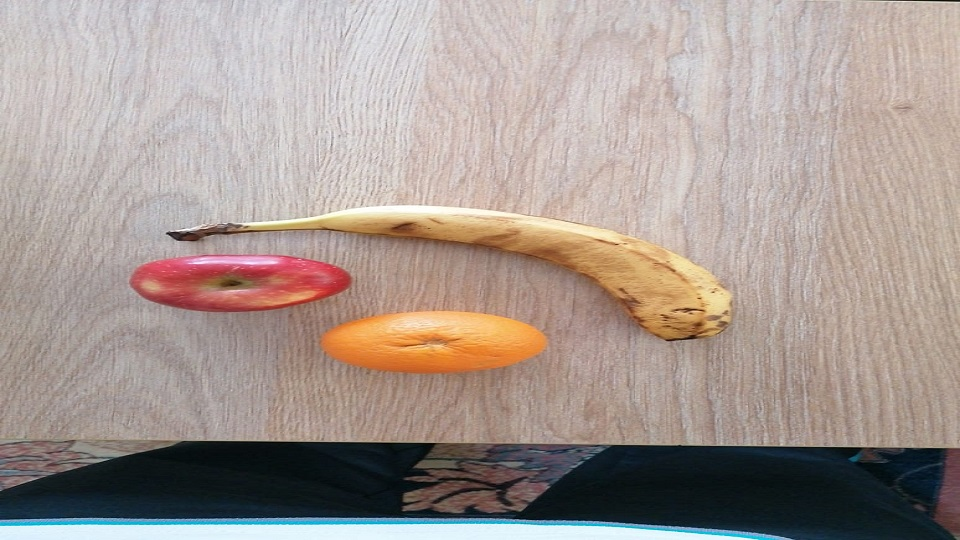elma: (128, 254, 354, 313)
muz: (183, 204, 735, 342)
portakal: (320, 309, 549, 375)
